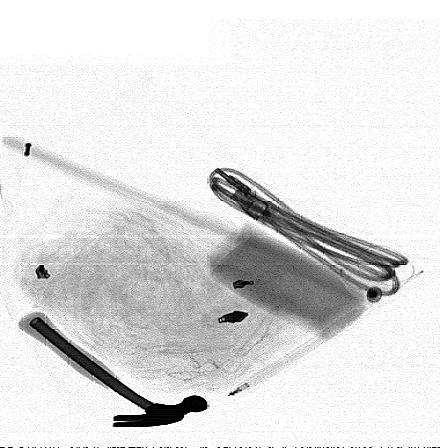Hammer: (16, 311, 208, 429)
